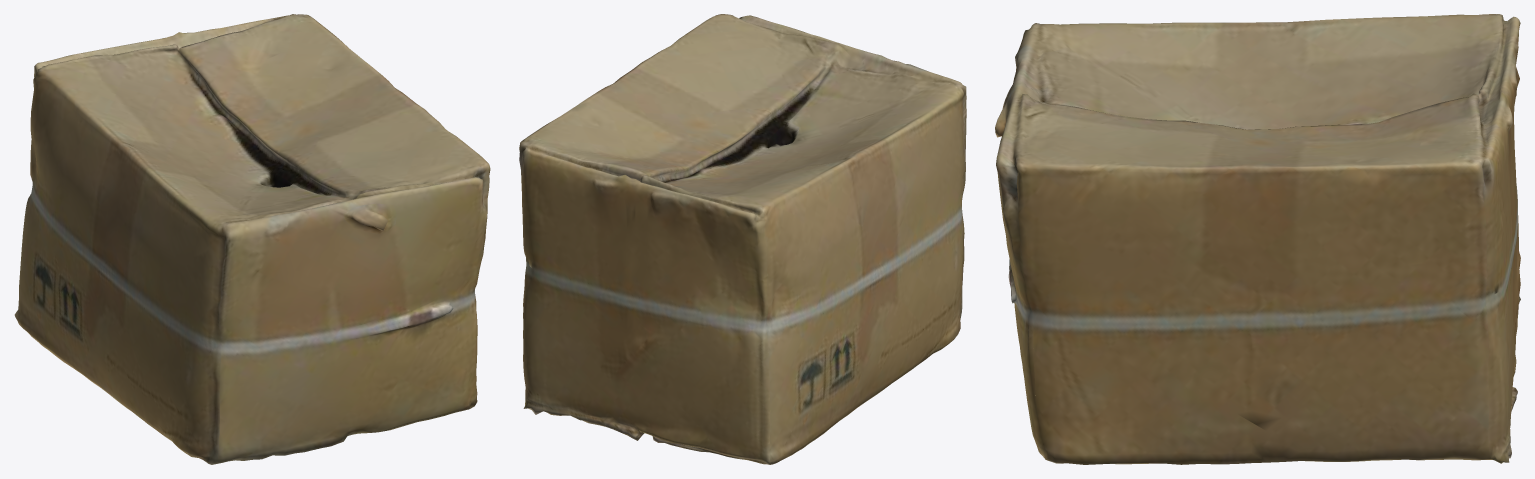
The model's file is cardboard_box_01.glb.
3 views of the same model, side by side, from view 1: azimuth 30°, elevation 25°; view 2: azimuth 150°, elevation 25°; view 3: azimuth 270°, elevation 25° (orthographic). The views are drawn at different scales.
Parts seen in each view (by area): view 1: cardboard_box_01; view 2: cardboard_box_01; view 3: cardboard_box_01.
Boxes of the visible parts, <box> form: cardboard_box_01: <box>14,14,490,464</box>; cardboard_box_01: <box>519,14,966,464</box>; cardboard_box_01: <box>995,14,1520,464</box>.
Bounding box in the file's own units: 0.387 × 0.3418 × 0.5159.
1 material, 1 textured.
